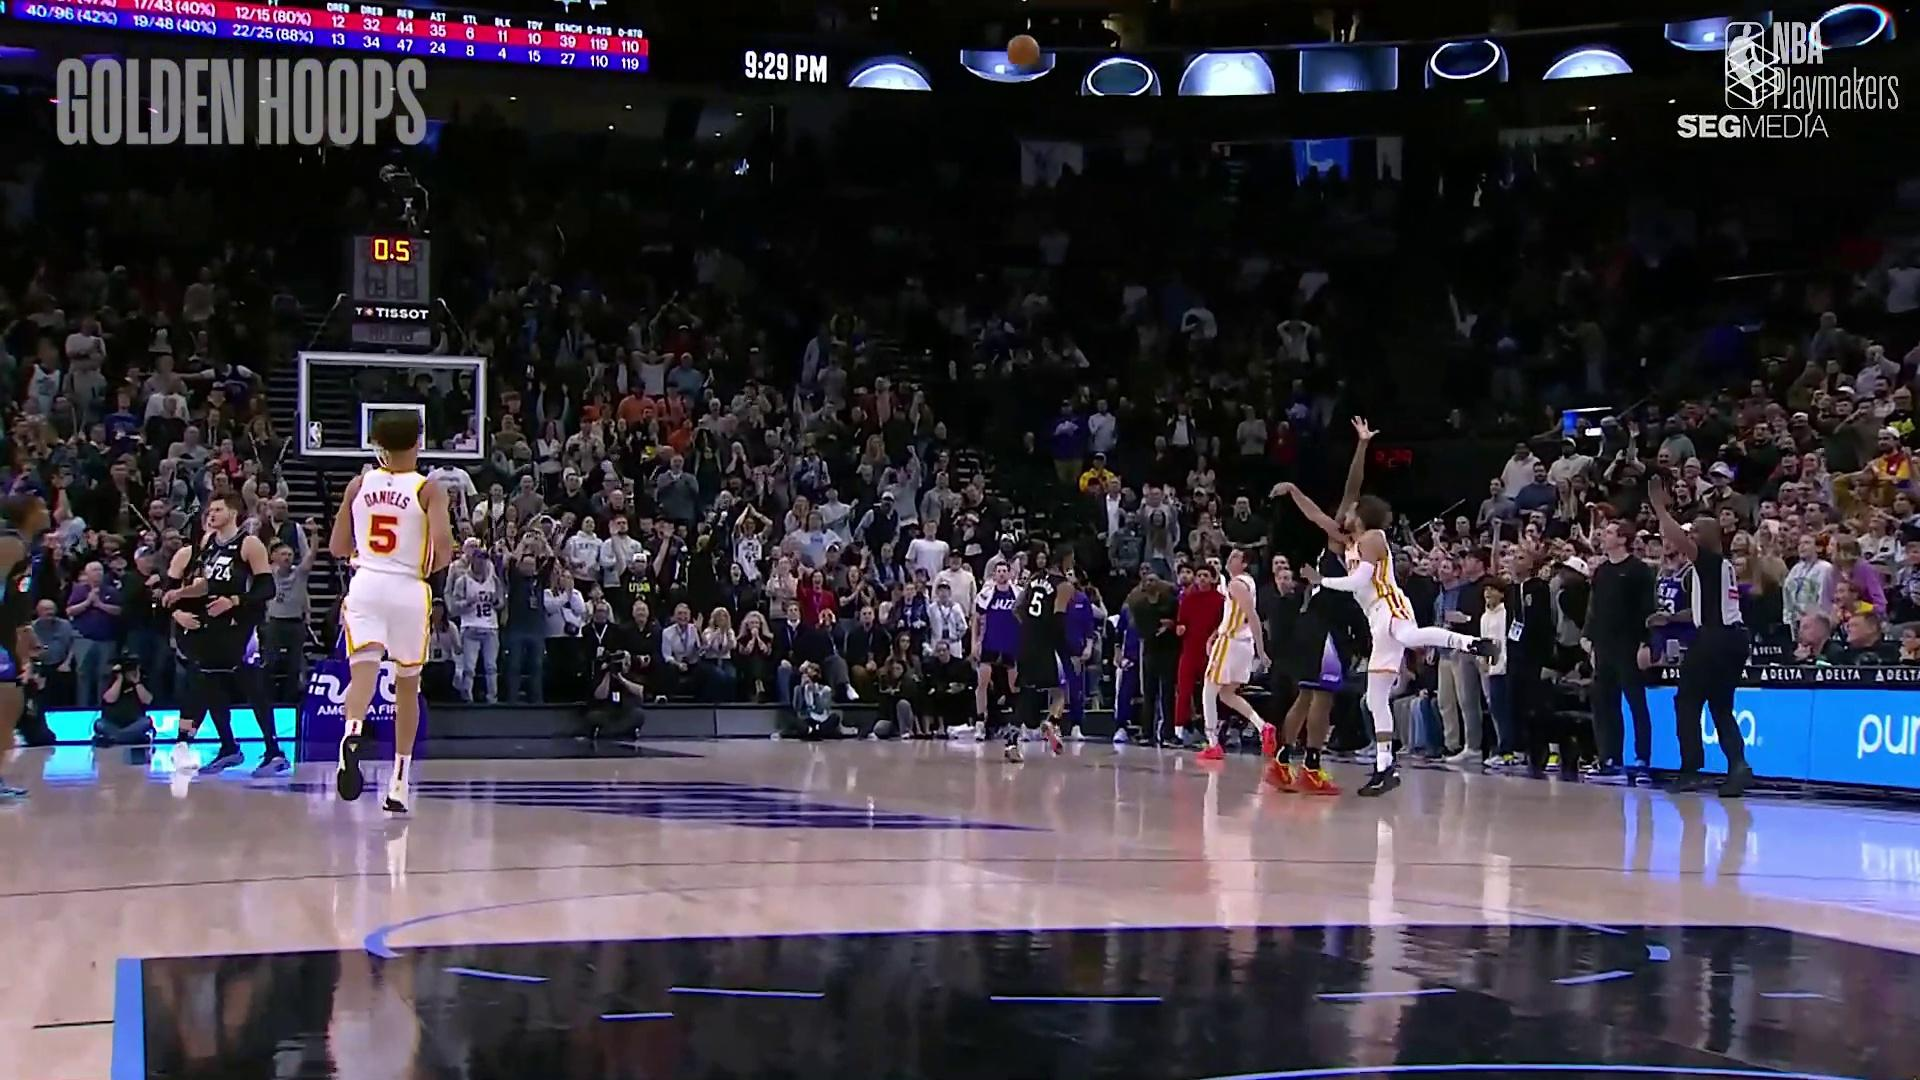ball: (1002, 33, 1051, 76)
